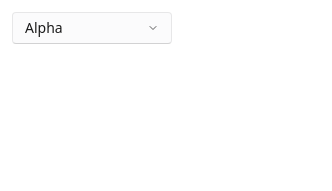
it: ComboBox › shows the selected option and opens a listbox on click
What coordinates should you click on to do the following:
click the dropdown named "Letter"
I would click on:
 (92, 28)
Its box is [12,12,172,44].
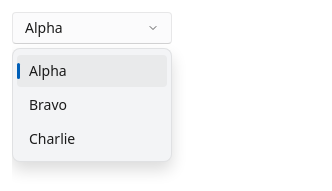
Expected: the number of options is 3, [17,55,167,87]; [29,95,67,114]; [29,129,75,148]
